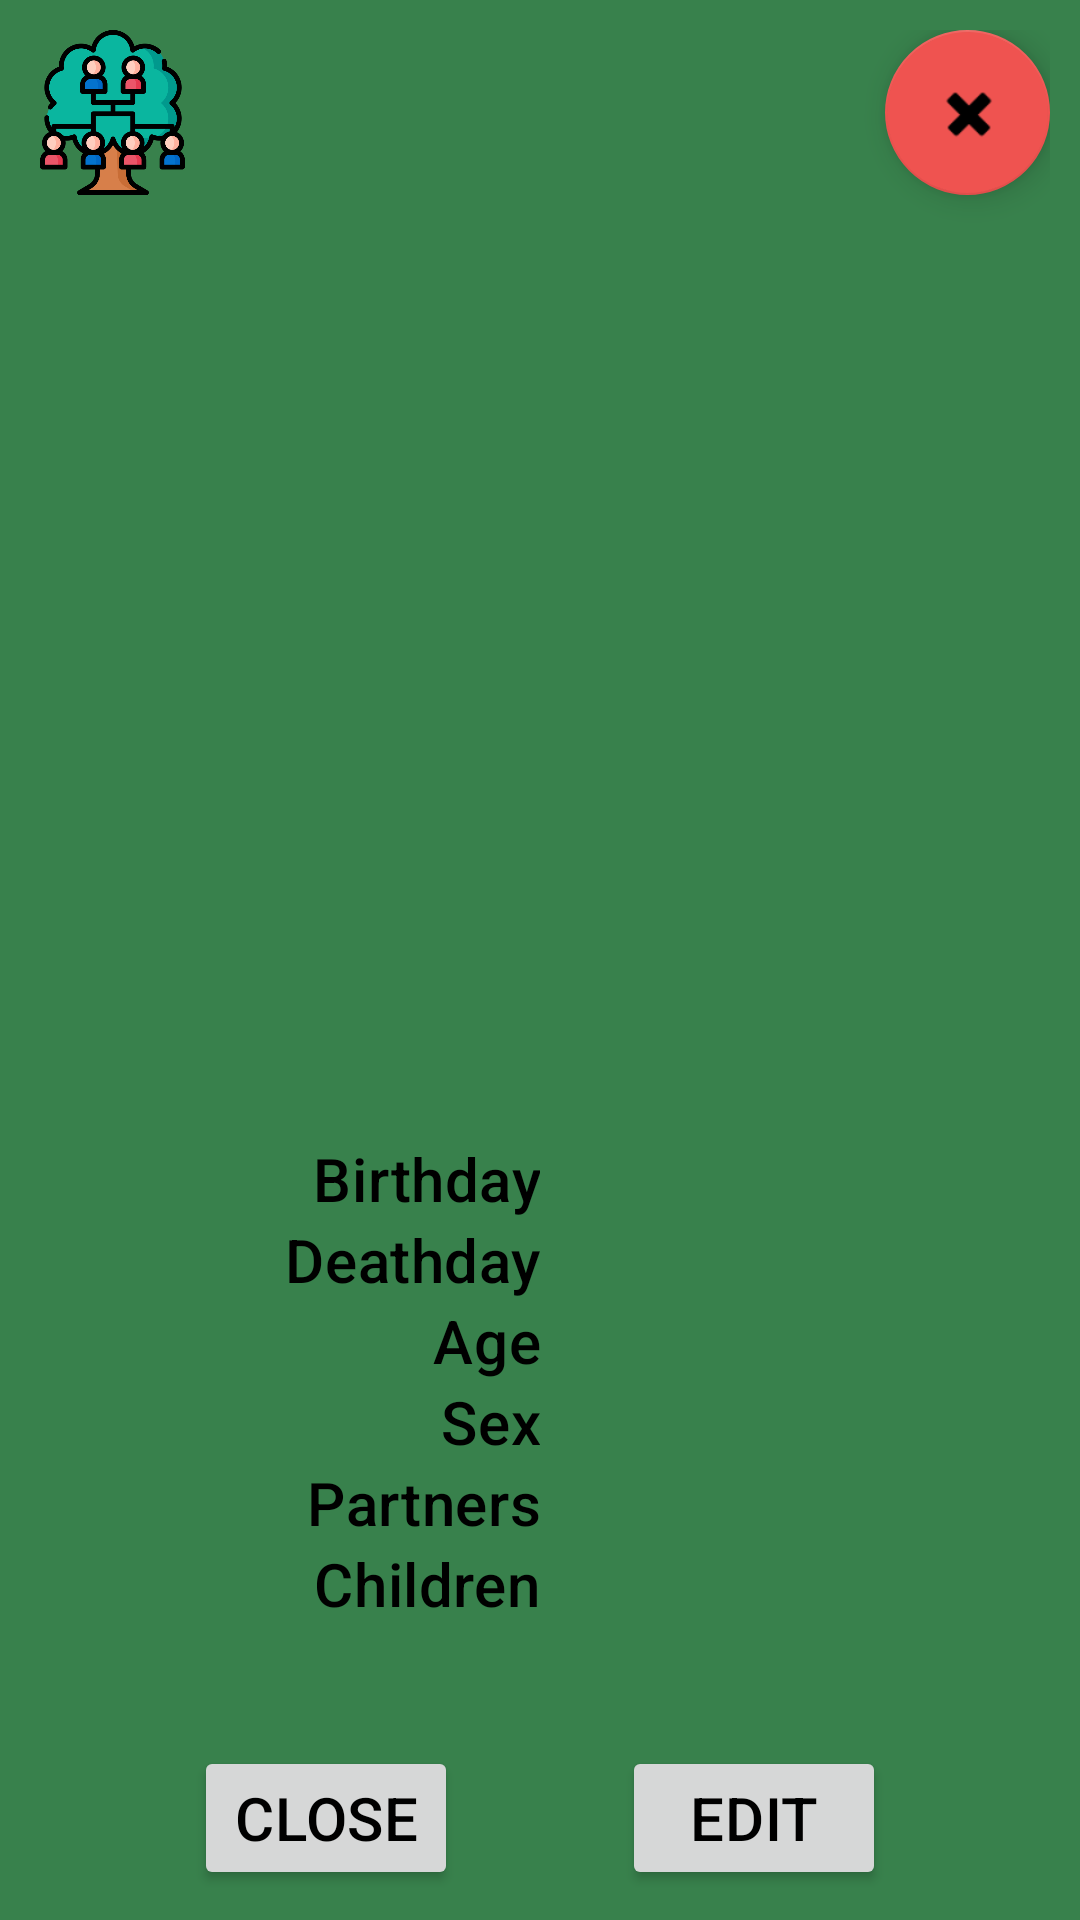

Named icons in this screenshot (1080×1920) and their bounding boxes, (x1, y1, x2, y2):
delete: (885, 30, 1050, 195)
